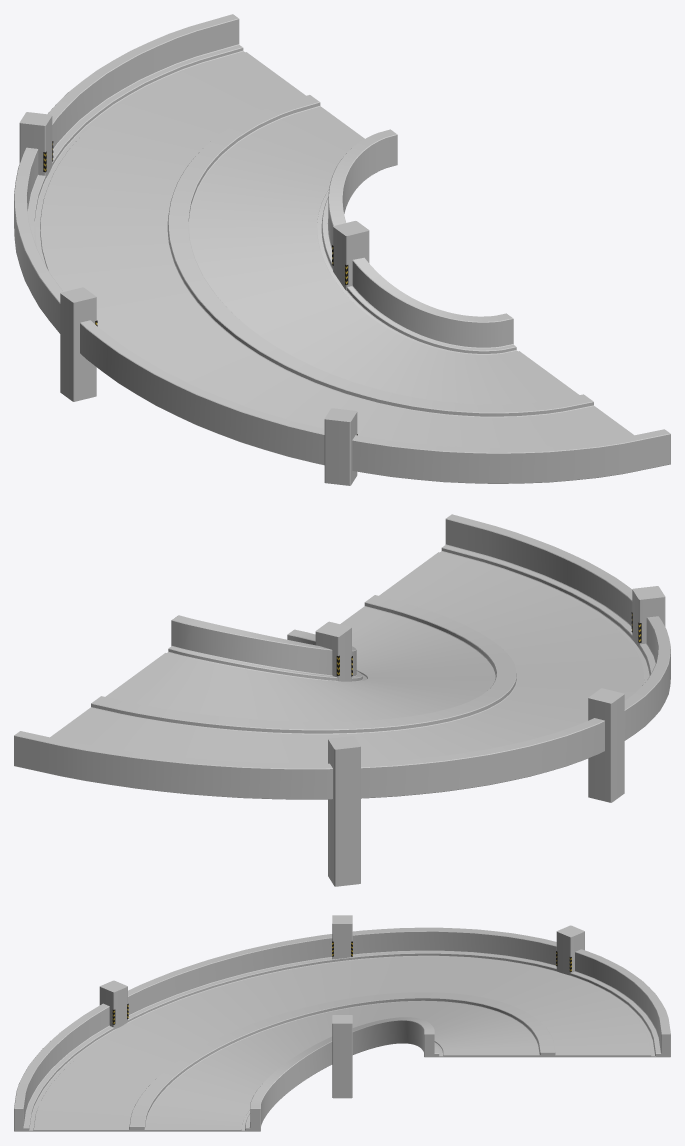
Rendered from CP_SpiralRamp_02a_snaps019.fbx.
3 views of the same model, one above another, from view 1: azimuth 30°, elevation 25°; view 2: azimuth 150°, elevation 25°; view 3: azimuth 270°, elevation 25° (orthographic). The views are drawn at different scales.
Parts seen in each view (by area): view 1: CP_SpiralRamp_02a_snaps019_LOD0; view 2: CP_SpiralRamp_02a_snaps019_LOD0; view 3: CP_SpiralRamp_02a_snaps019_LOD0.
Boxes of the visible parts, left/top/right/bottom form: CP_SpiralRamp_02a_snaps019_LOD0: left=14, top=14, right=670, bottom=485; CP_SpiralRamp_02a_snaps019_LOD0: left=14, top=514, right=670, bottom=886; CP_SpiralRamp_02a_snaps019_LOD0: left=14, top=915, right=670, bottom=1131.
Size of what is drawn, in the model's own units: 1627 by 557 by 3200.
